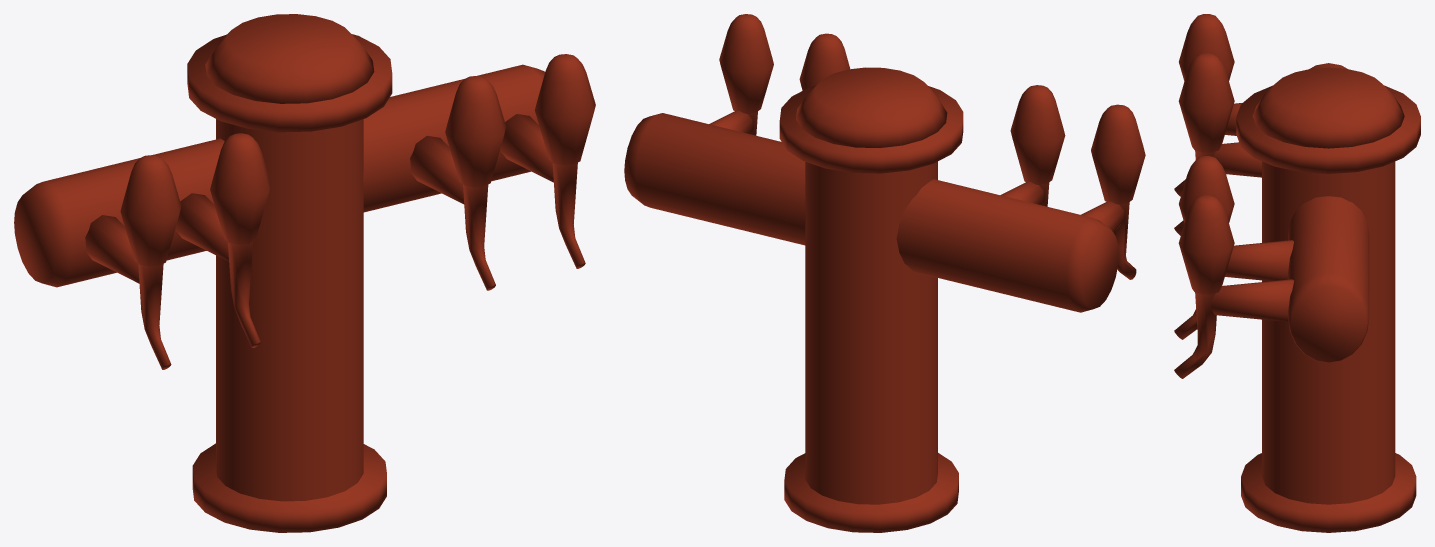
The model's file is BeerDispenser.fbx.
The picture shows the model from 3 angles, left to right: view 1: azimuth 30°, elevation 25°; view 2: azimuth 150°, elevation 25°; view 3: azimuth 270°, elevation 25°; orthographic projection. The views are drawn at different scales.
Visible parts, largest first — view 1: Cylinder.043; view 2: Cylinder.043; view 3: Cylinder.043.
Part boxes in pixels (x1=…): Cylinder.043: x1=14, y1=14, x2=595, y2=532; Cylinder.043: x1=624, y1=14, x2=1145, y2=532; Cylinder.043: x1=1174, y1=14, x2=1420, y2=532.
Size of the model in its own units: 60.07 by 50.87 by 28.16.
